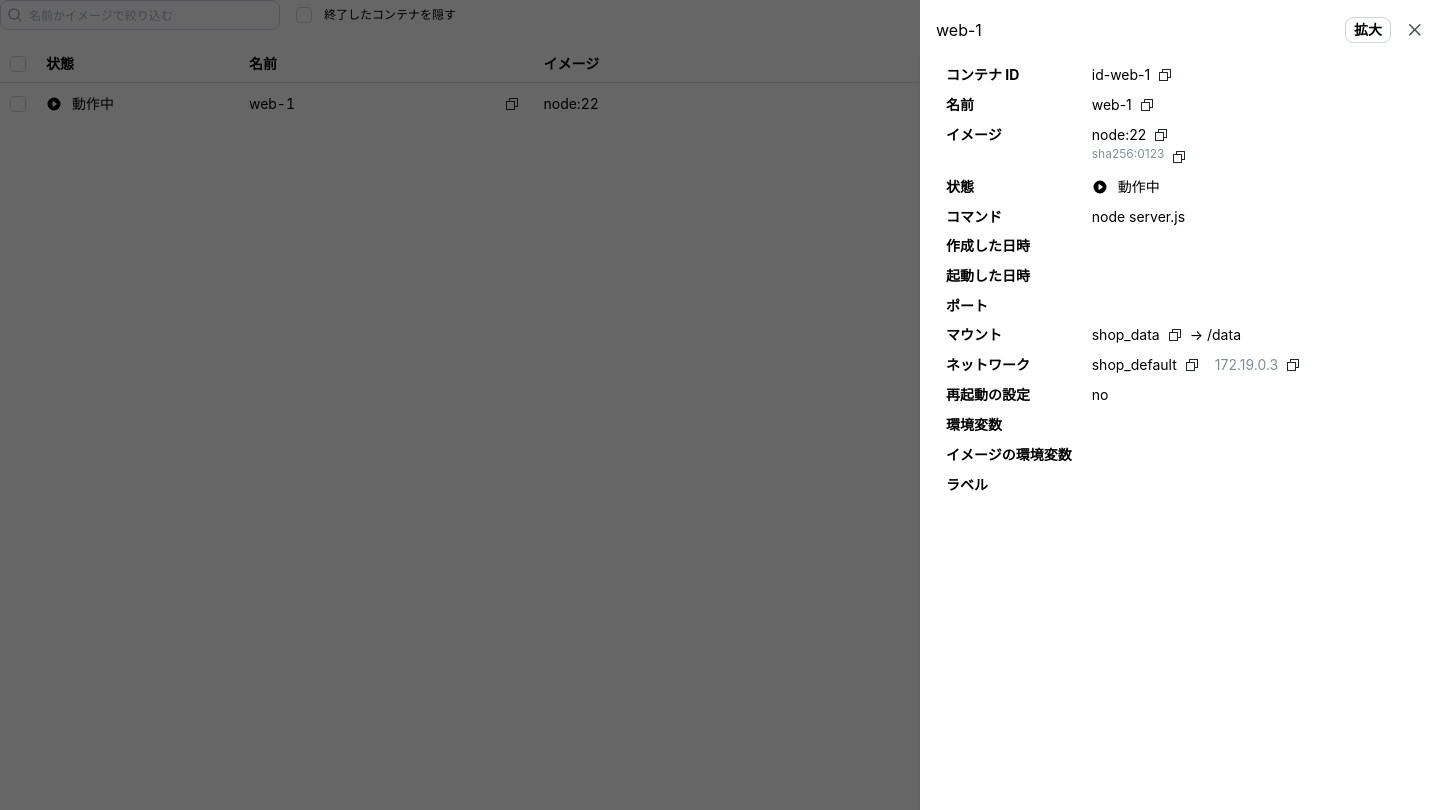
Test case: ContainersView の詳細 › 「イメージ ID をコピー」を押すと、ボタンの左の値 sha256:0123 をクリップボードに書き込み、ボタンの上に「コピーしました」を出す
Click the button named "イメージ ID をコピー": (1179,157) [1168, 146, 1190, 168]
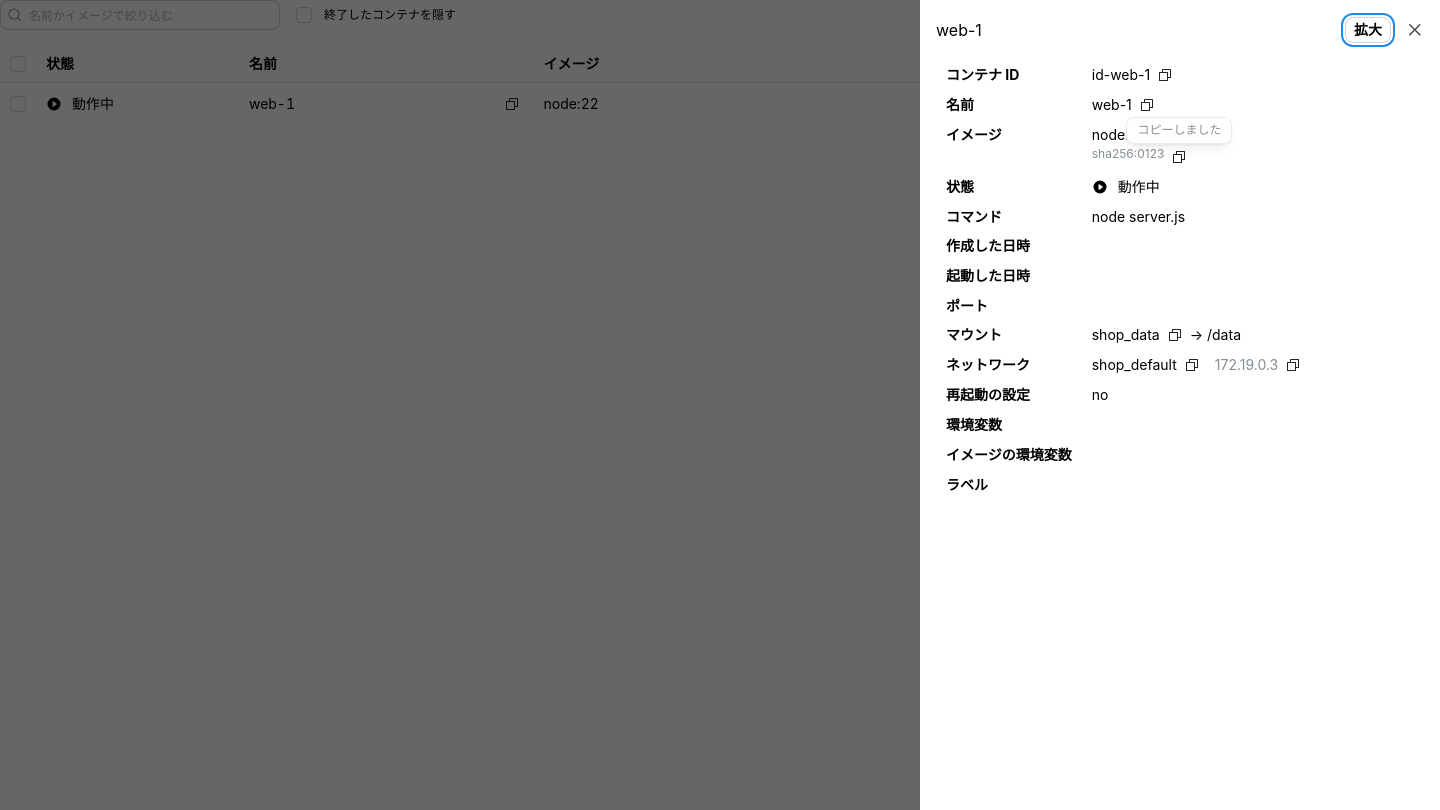
Expected: the message reads "コピーしました", [1137, 122, 1221, 137]
